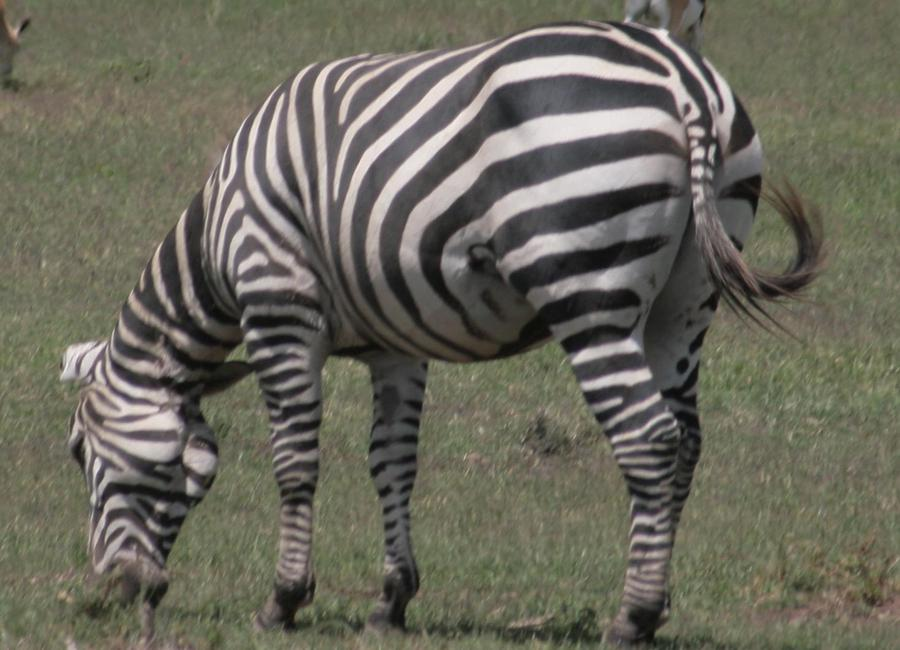zebra_plains: (188, 29, 693, 385)
